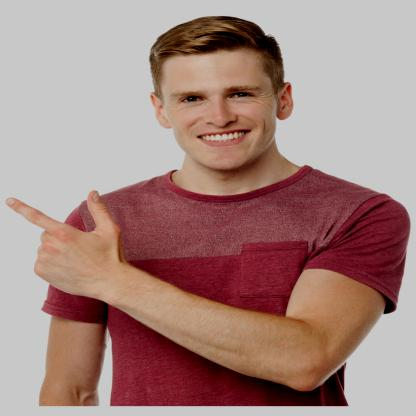Right: (0, 189, 138, 299)
